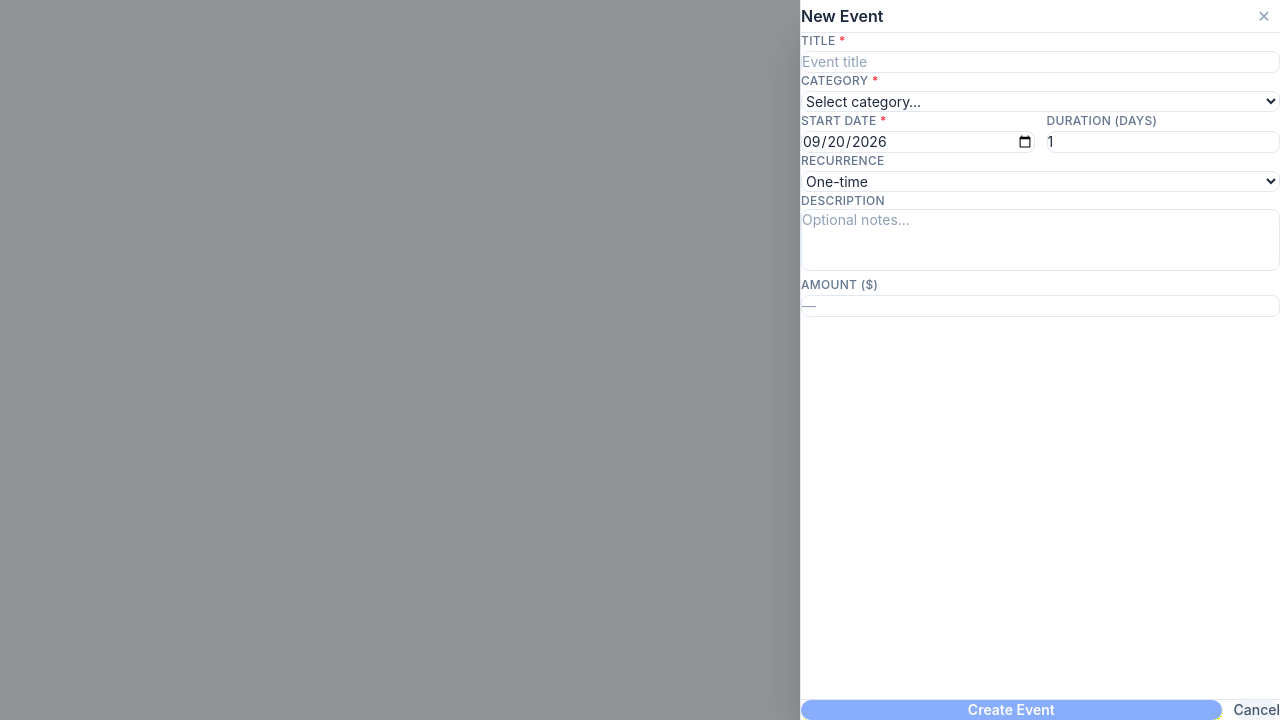
Test case: EventPanel — validation › Create Event button is enabled when title is filled
Type "My Event" into the field with placeholder "Event title" at (1040, 62), box [801,51,1279,73]
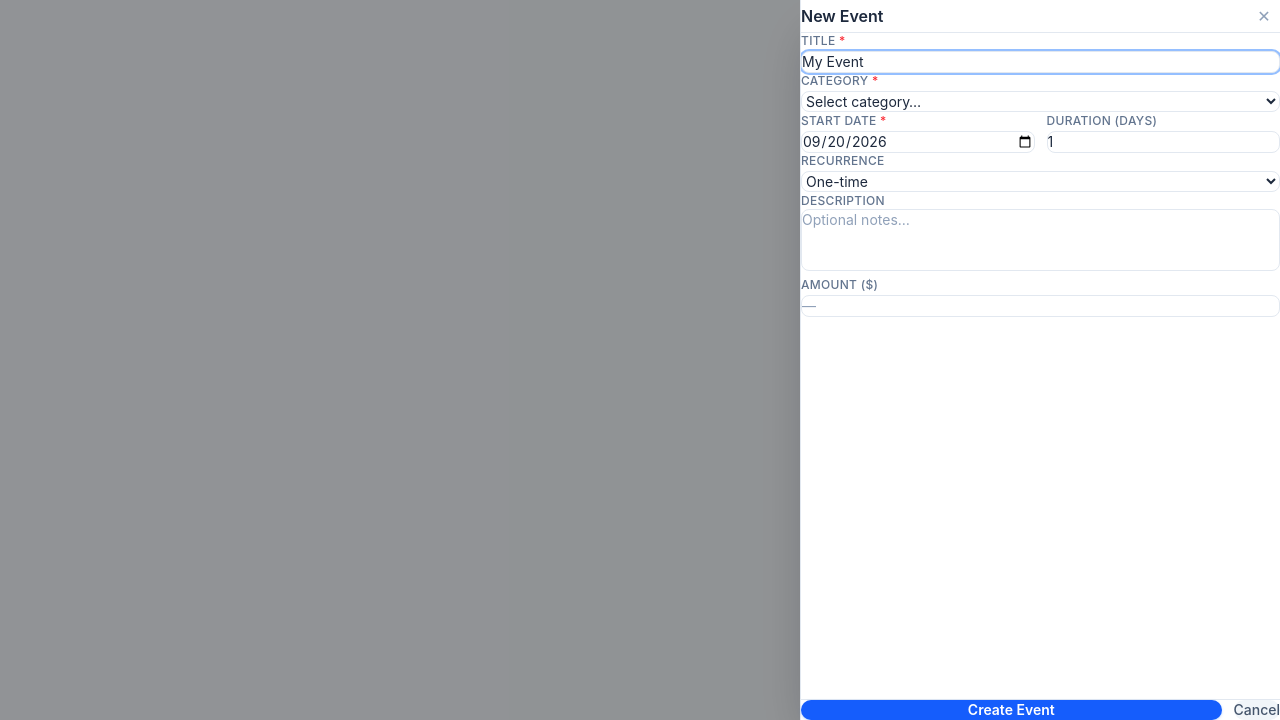
Check: the button "Create Event" is enabled, box [801,700,1222,719]
